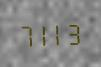one: (34, 20, 49, 47), (50, 20, 65, 46)
seven: (18, 21, 33, 47)
three: (66, 19, 81, 45)
